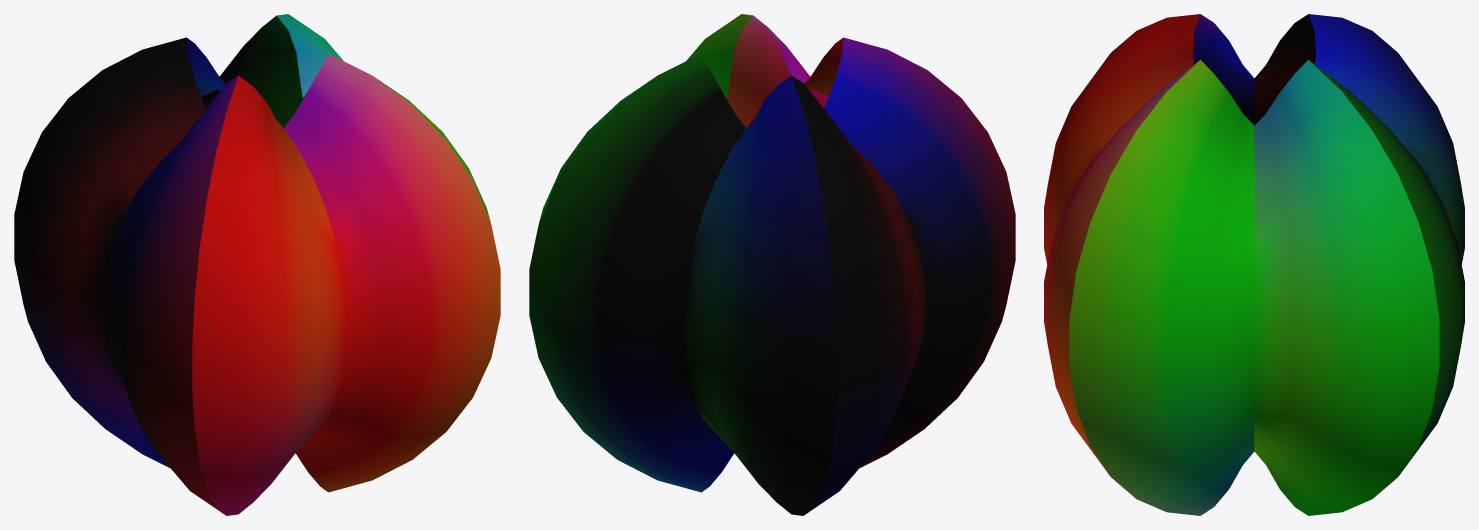
Rendered from uni_sphere_teleport.fbx.
The picture shows the model from 3 angles, left to right: view 1: azimuth 30°, elevation 25°; view 2: azimuth 150°, elevation 25°; view 3: azimuth 270°, elevation 25°; orthographic projection. The views are drawn at different scales.
Parts seen in each view (by area): view 1: uni_sphere_teleport; view 2: uni_sphere_teleport; view 3: uni_sphere_teleport.
Boxes of the visible parts, box(x1,y1,x2,y2) form: uni_sphere_teleport: box(14, 14, 500, 515); uni_sphere_teleport: box(529, 14, 1015, 515); uni_sphere_teleport: box(1044, 14, 1464, 515).
Bounding box in the file's own units: 20478 × 20478 × 24498.
